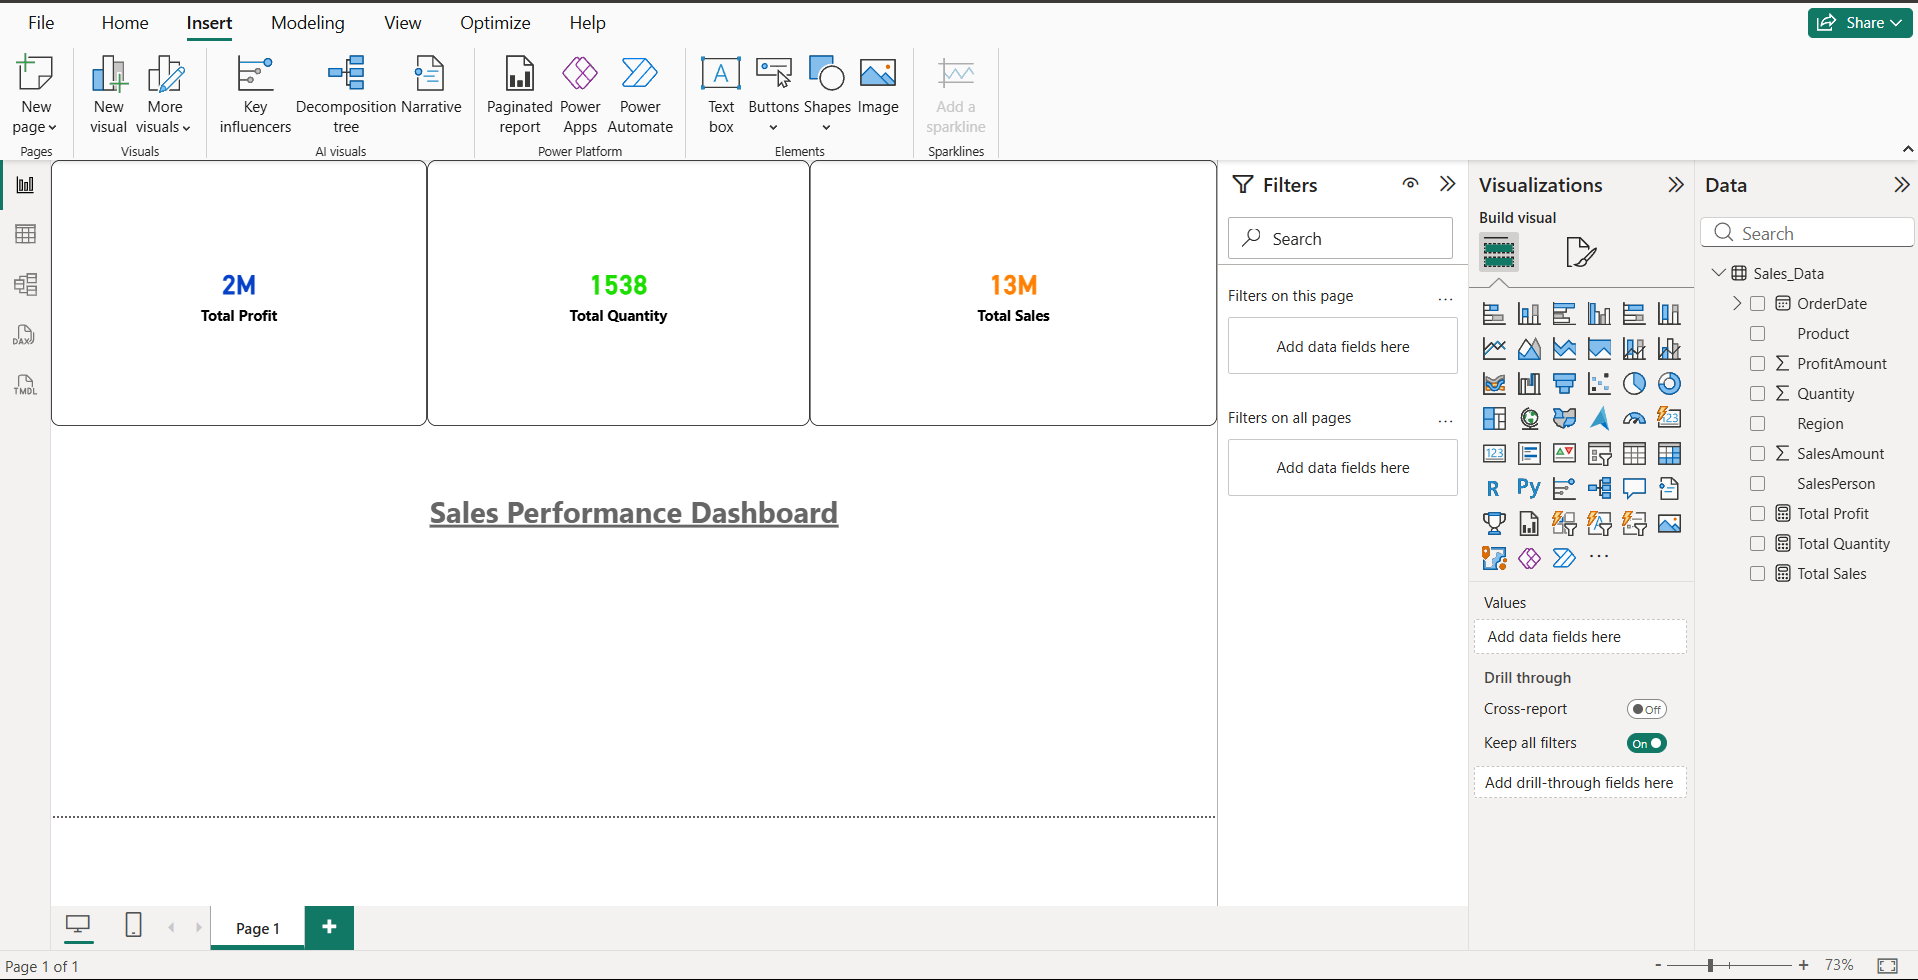

Layout of this report page (visuals, bound fields, positions):
{"tool":"powerbi","page":{"name":"KPI Summary","canvas":[1280,720],"ordinal":1},"visuals":[{"type":"card","fields":{"Values":["Sales_Data.Total Sales"]},"box":[832.7,0,447.3,292.3],"z":0},{"type":"card","fields":{"Values":["Sales_Data.Total Profit"]},"box":[0,0,413,292.3],"z":1000},{"type":"card","fields":{"Values":["Sales_Data.Total Quantity"]},"box":[413,0,419.9,292.3],"z":2000},{"type":"textbox","box":[0,359.5,1280.3,74.1],"z":3000}]}

Visuals, with their boxes on the page's 1280x720 design canvas (x1, y1, x2, y2). These are canvas units, not pixel positions in the 1918x980 screenshot, which may show the page scaled, cropped or inside an application window:
card - Sales_Data.Total Sales: 833/0/1280/292
card - Sales_Data.Total Profit: 0/0/413/292
card - Sales_Data.Total Quantity: 413/0/833/292
textbox: 0/360/1280/434
